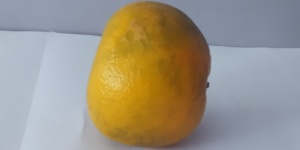BAD: (91, 2, 216, 150)
